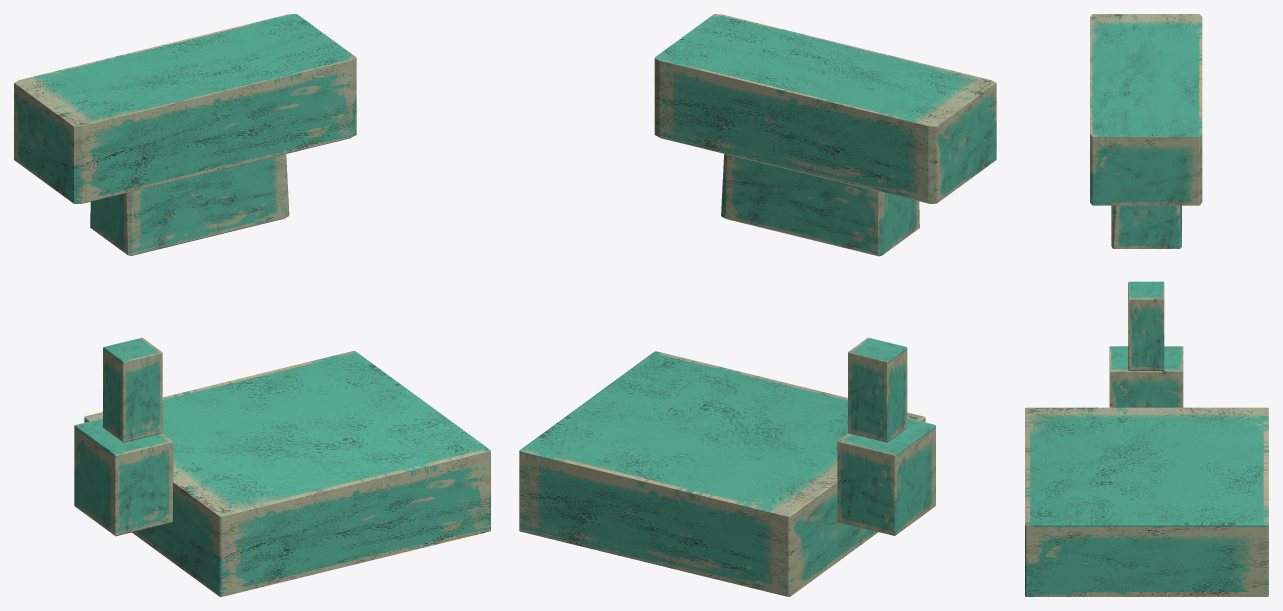
Rendered from korob.fbx.
The picture shows the model from 3 angles, left to right: view 1: azimuth 30°, elevation 25°; view 2: azimuth 150°, elevation 25°; view 3: azimuth 270°, elevation 25°; orthographic projection. The views are drawn at different scales.
Visible parts, largest first — view 1: korob2lp, koroblp; view 2: korob2lp, koroblp; view 3: korob2lp, koroblp.
Part boxes in pixels (x1,y1,x2,y2): korob2lp: (74, 337, 490, 596); koroblp: (14, 14, 356, 255); korob2lp: (519, 337, 935, 596); koroblp: (654, 14, 996, 256); korob2lp: (1025, 281, 1268, 596); koroblp: (1090, 14, 1202, 248).
Size of the model in its own units: 196 by 232 by 122.
